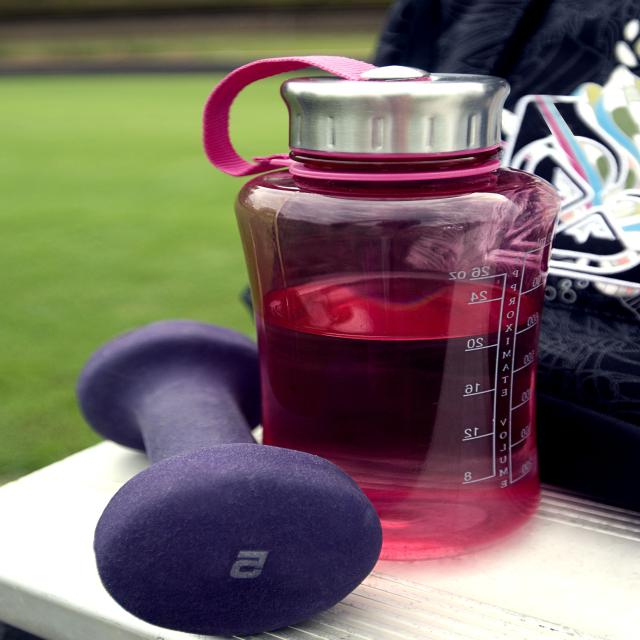plastic_bottle: (220, 62, 562, 562)
